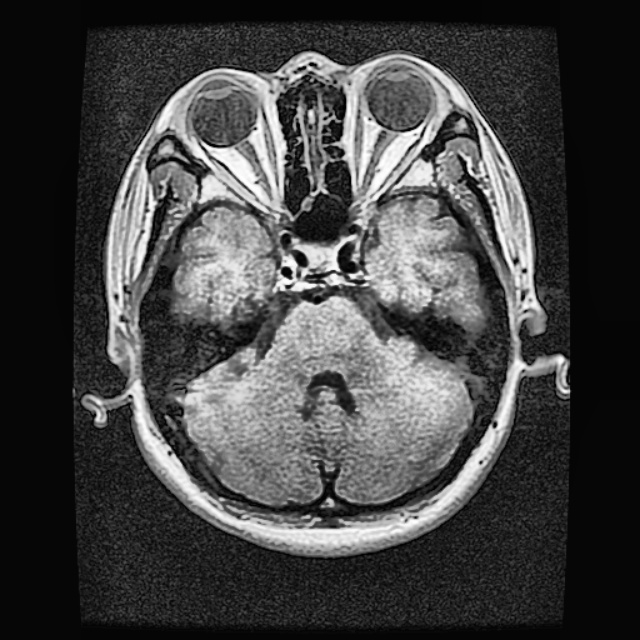Pituitary: (305, 247, 335, 273)
